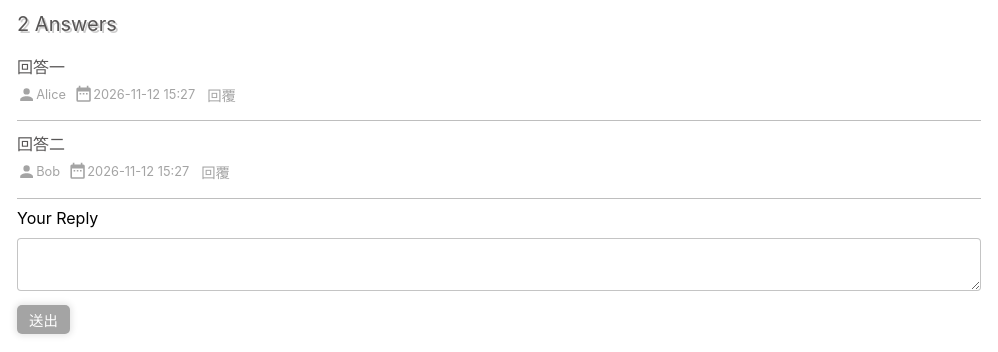
it: AnswerList › 送出回覆：帶入作者與 email、清空輸入框並重新載入
Type "  我的回答  " into the text box named "Your Reply" at (499, 264), box [17,238,981,291]
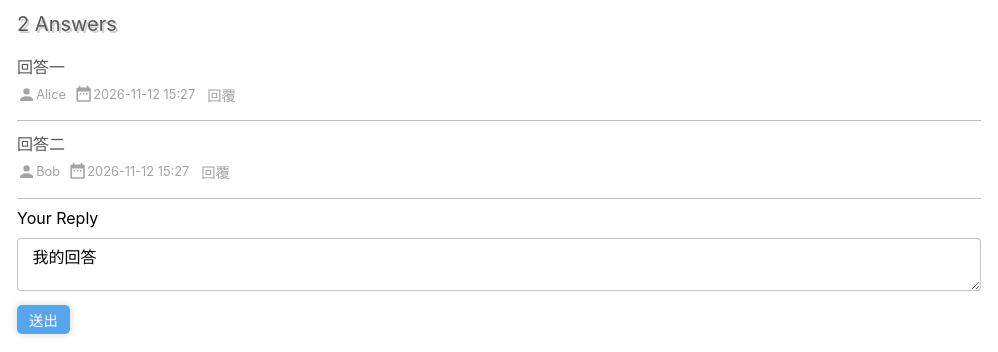
Click the button "送出" at (43, 320), box [17,305,70,334]
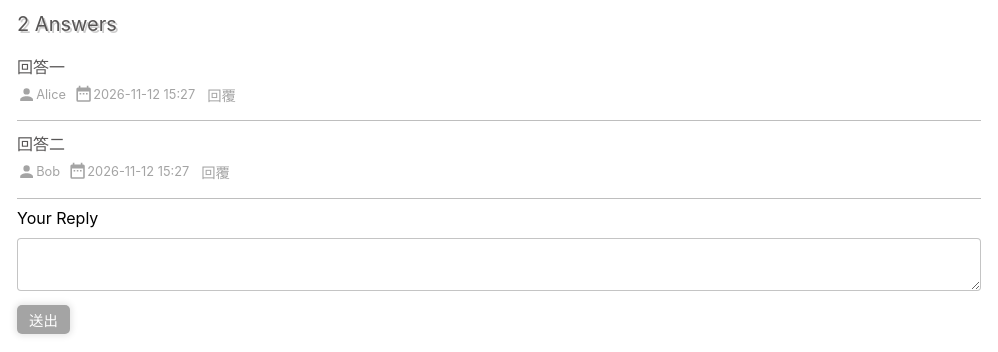
expect the text box named "Your Reply" is empty: met, box [17,238,981,291]
